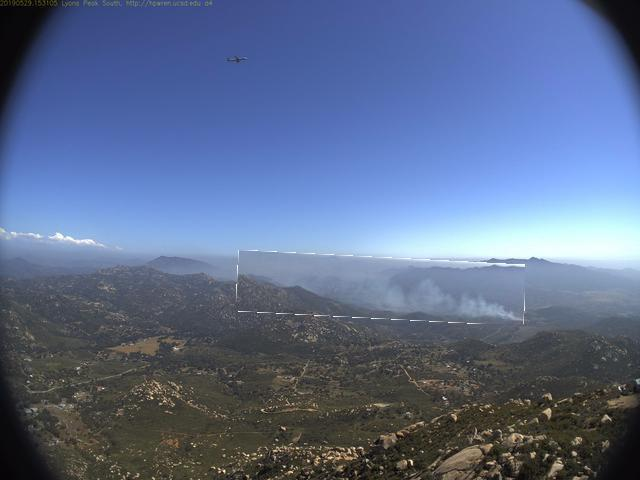smoke: (238, 255, 527, 323)
